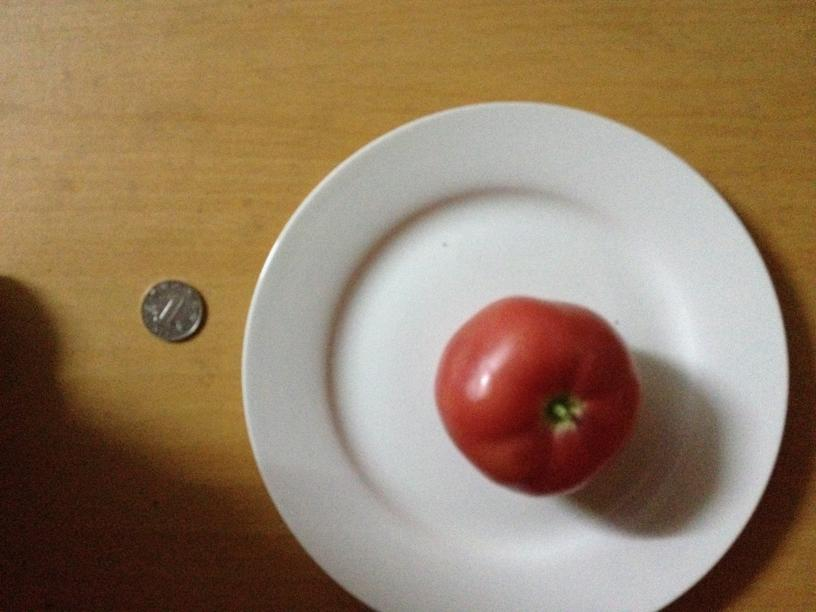coin: (136, 280, 205, 342)
tomato: (434, 292, 645, 498)
